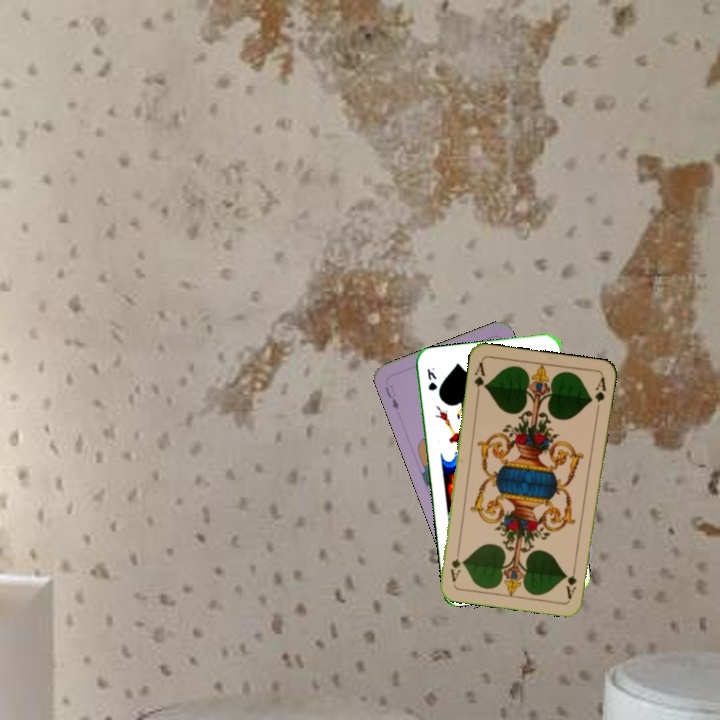EU: (381, 381, 401, 413)
GA: (470, 358, 489, 398), (562, 561, 579, 601)
GK: (423, 363, 440, 393)
